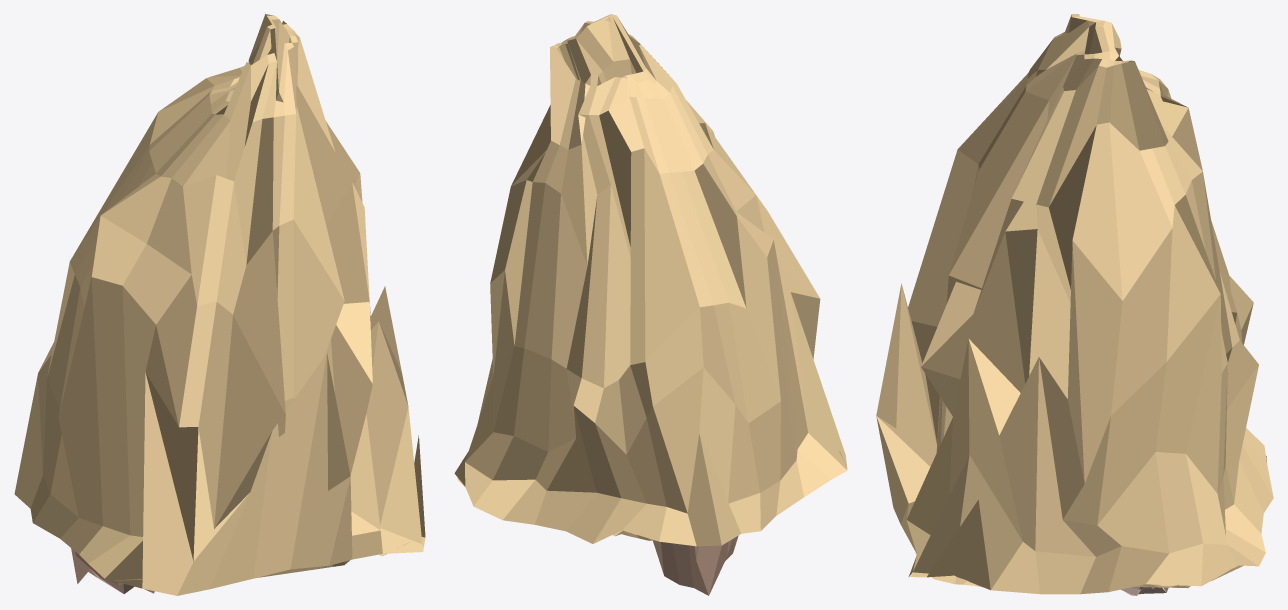
Rendered from stone2.gltf.
3 renders of one model, left to right at view 1: azimuth 30°, elevation 25°; view 2: azimuth 150°, elevation 25°; view 3: azimuth 270°, elevation 25°, orthographic. The views are drawn at different scales.
Visible parts, largest first — view 1: Plane.005; view 2: Plane.005; view 3: Plane.005.
Boxes of the visible parts, x1,y1,x2,y2 form: Plane.005: (14, 14, 425, 595); Plane.005: (454, 14, 847, 595); Plane.005: (876, 14, 1273, 595).
Bounding box in the file's own units: 3.53 × 5.7 × 3.44.
